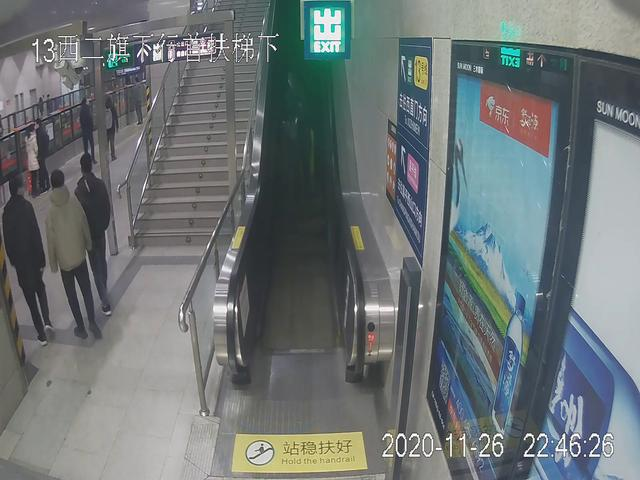person: (41, 171, 108, 339), (4, 168, 55, 343), (75, 152, 118, 321), (30, 121, 56, 190), (18, 122, 39, 195), (102, 96, 123, 168), (78, 96, 99, 162)
